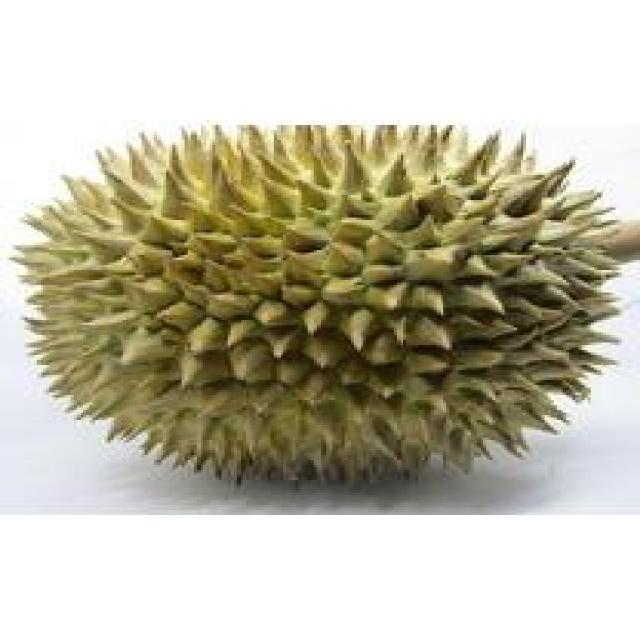fruit: (0, 95, 357, 523), (283, 97, 640, 515)
